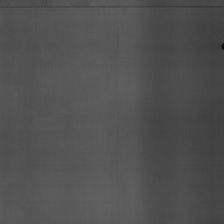welding_line: (0, 3, 224, 14), (221, 41, 224, 50)
